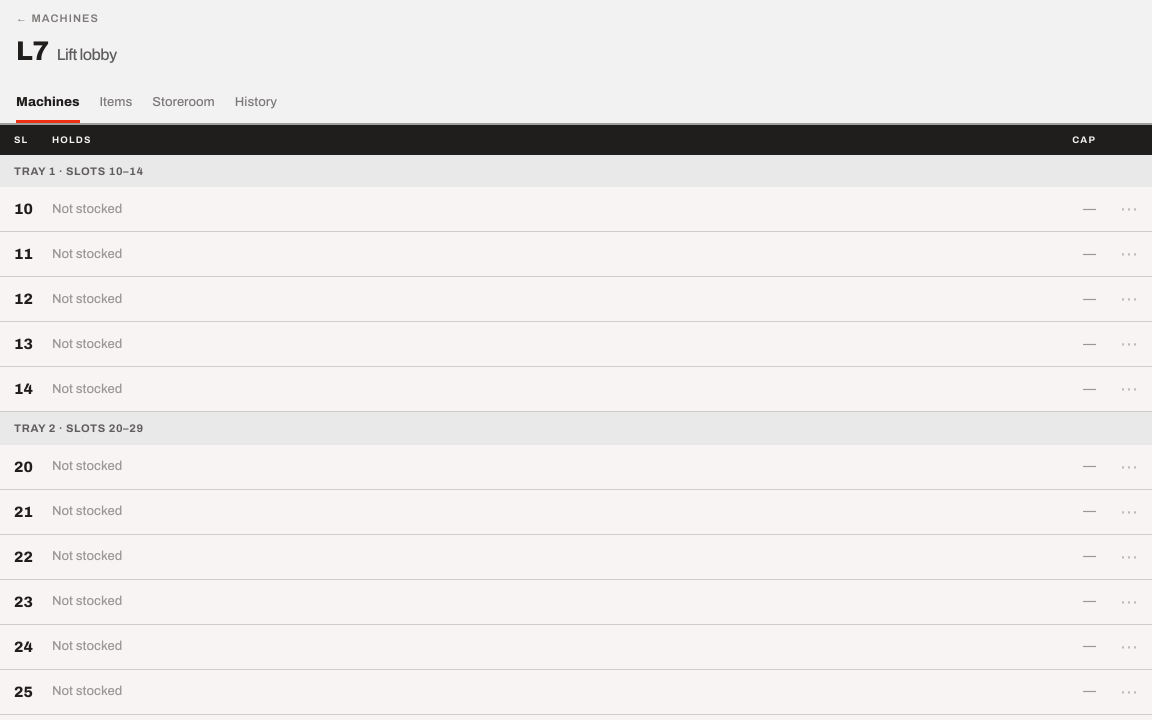
Test case: MachineMapScreen › editing the map in place › starts the capacity field empty and Save disabled for a Not stocked slot
What coordinates should you click on to do the following:
click the button named "Edit slot 10"
I would click on:
 (1129, 209)
Its box is [1120, 195, 1138, 223].
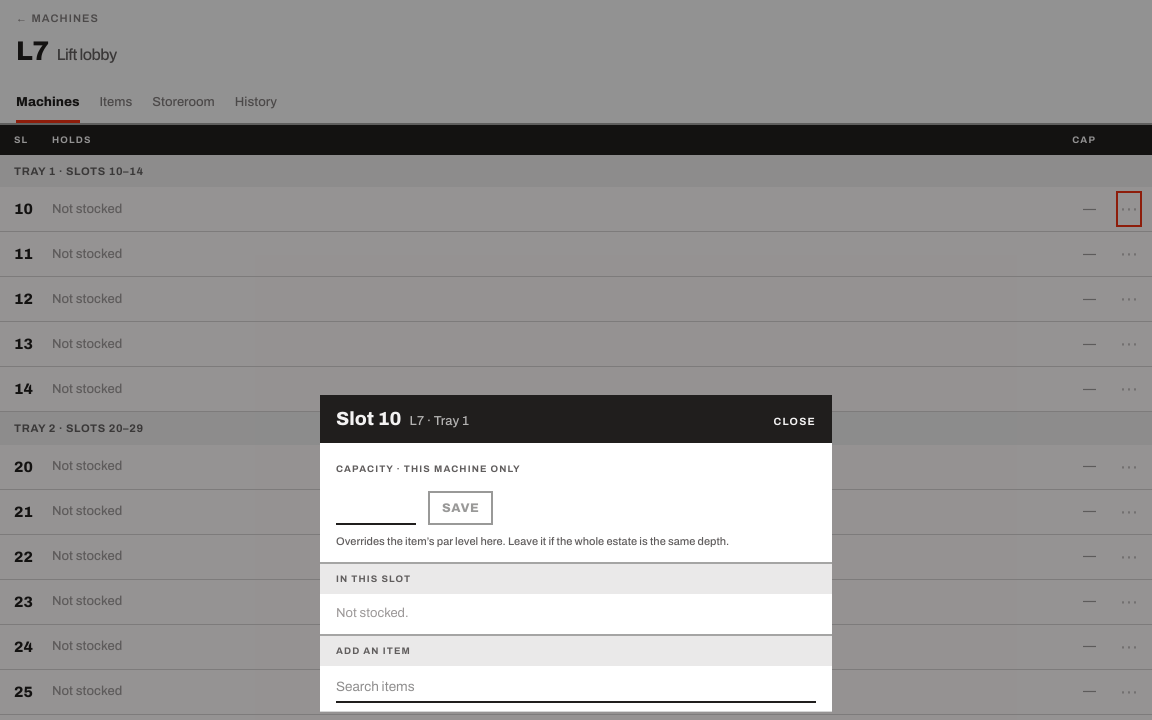
Result: the number field named "Capacity" is not empty at [336, 483, 416, 525]
Result: the button "Save" is disabled at [428, 490, 493, 525]
